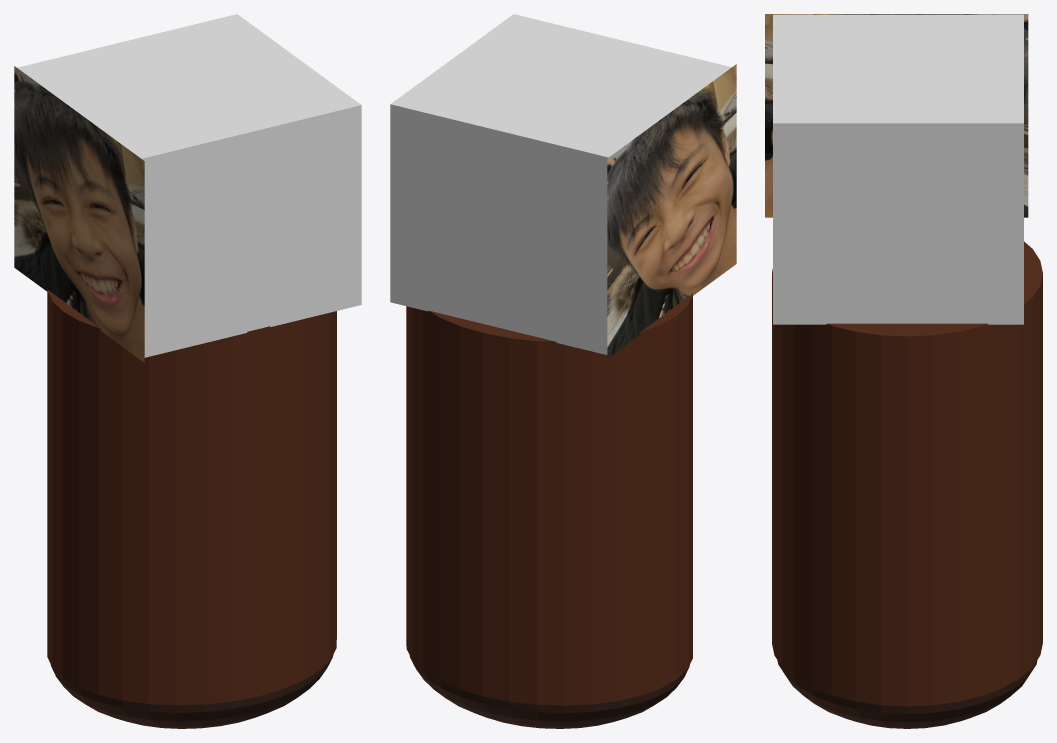
Rendered from Coolhuman.glb.
3 renders of one model, left to right at view 1: azimuth 30°, elevation 25°; view 2: azimuth 150°, elevation 25°; view 3: azimuth 270°, elevation 25°, orthographic.
Parts seen in each view (by area): view 1: Cylinder, Cube, tuff rat, Sphere.003; view 2: Cylinder, Cube, tuff rat, Sphere.003; view 3: Cylinder, Cube, Sphere.003, tuff rat.
Part boxes in pixels (bbox=[...]): Cylinder: bbox=[47, 289, 336, 705]; Cube: bbox=[17, 14, 361, 357]; tuff rat: bbox=[14, 66, 144, 362]; Sphere.003: bbox=[50, 655, 333, 728]; Cylinder: bbox=[406, 293, 692, 705]; Cube: bbox=[390, 14, 731, 354]; tuff rat: bbox=[607, 64, 736, 358]; Sphere.003: bbox=[409, 655, 689, 728]; Cylinder: bbox=[772, 241, 1042, 706]; Cube: bbox=[773, 14, 1023, 324]; Sphere.003: bbox=[777, 660, 1037, 728]; tuff rat: bbox=[765, 14, 1028, 217].
Size of the model in its own units: 1.21 by 2.81 by 1.12.
3 materials, 1 textured.
